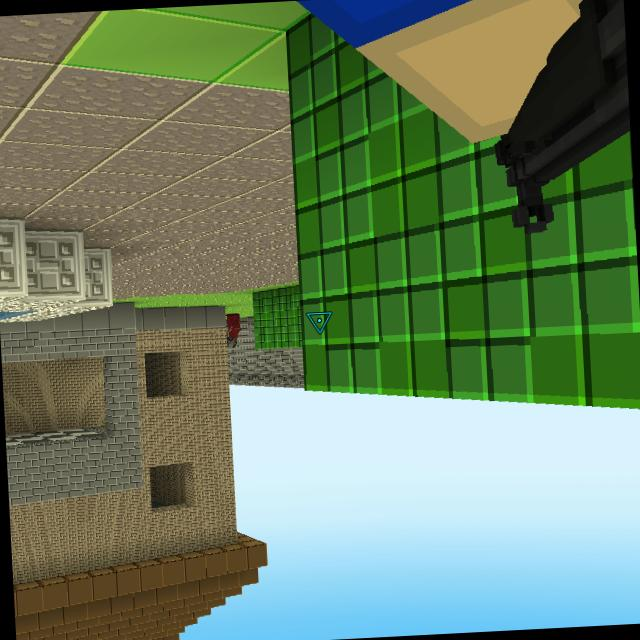enemy: (226, 312, 242, 349)
